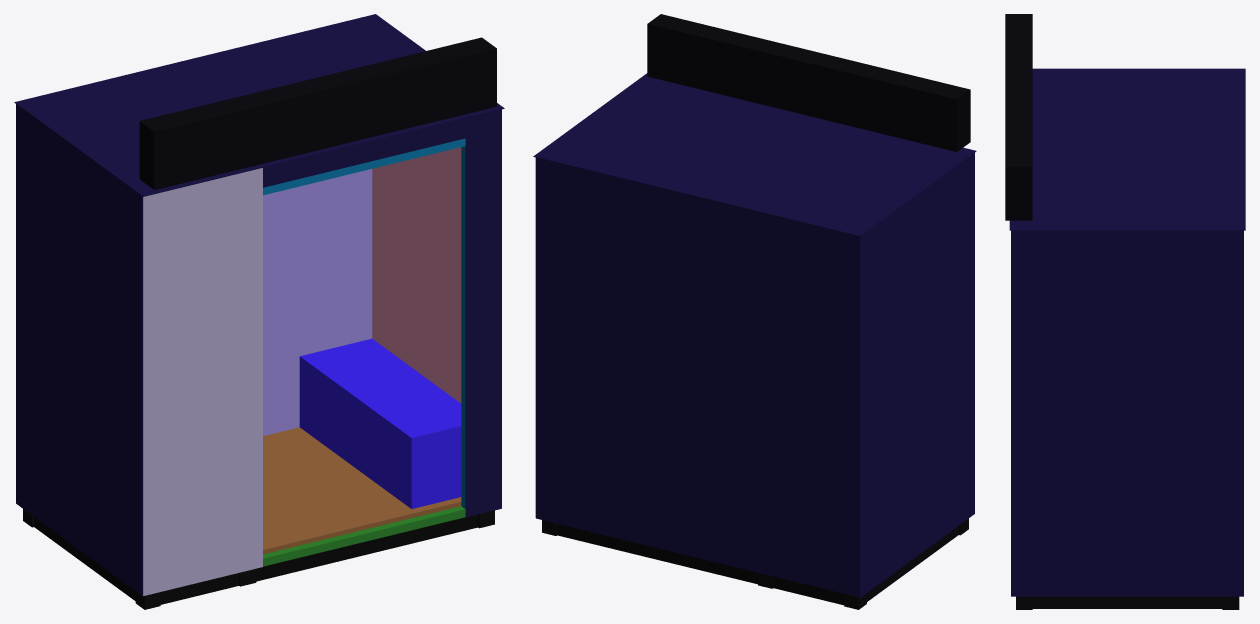
The model's file is mesticker_booth_fab.obj.
3 views of the same model, side by side, from view 1: azimuth 30°, elevation 25°; view 2: azimuth 150°, elevation 25°; view 3: azimuth 270°, elevation 25° (orthographic). The views are drawn at different scales.
Parts seen in each view (by area): view 1: M2_Machine_end_wall, M1_Machine_front_(aisle_face), S1_Sign_face, B7_Back_wall_liner_(inside), Bench, B6_Backdrop_liner_(end_wall,_inside), B3_Front_pillar, B5_Bay_roof, B8_Bay_floor_deck, M5_Machine_roof, B4_Front_header, P1_Plinth_skirt_long_0 (+4 smaller); view 2: B1_Bay_back_wall_(outside), M2_Machine_end_wall, M3_Machine_back, B5_Bay_roof, S1_Sign_face, M5_Machine_roof, P1_Plinth_skirt_long_1, P2_Plinth_skirt_short_0; view 3: B2_Bay_end_wall_(outside), B5_Bay_roof, M5_Machine_roof, S1_Sign_face, P2_Plinth_skirt_short_1, B1_Bay_back_wall_(outside), B3_Front_pillar.
Part boxes in pixels (<box>): M2_Machine_end_wall: <box>16,104,142,595</box>; M1_Machine_front_(aisle_face): <box>143,168,262,595</box>; S1_Sign_face: <box>139,37,496,190</box>; B7_Back_wall_liner_(inside): <box>263,169,372,435</box>; Bench: <box>299,338,461,508</box>; B6_Backdrop_liner_(end_wall,_inside): <box>372,147,461,403</box>; B3_Front_pillar: <box>465,109,501,517</box>; B5_Bay_roof: <box>135,14,504,167</box>; B8_Bay_floor_deck: <box>263,427,461,554</box>; M5_Machine_roof: <box>14,73,264,196</box>; B4_Front_header: <box>263,118,465,187</box>; P1_Plinth_skirt_long_0: <box>160,514,477,604</box>; B1_Bay_back_wall_(outside): <box>536,157,751,570</box>; M2_Machine_end_wall: <box>860,153,974,597</box>; M3_Machine_back: <box>752,210,860,597</box>; B5_Bay_roof: <box>533,73,859,209</box>; S1_Sign_face: <box>647,14,970,151</box>; M5_Machine_roof: <box>750,128,976,236</box>; P1_Plinth_skirt_long_1: <box>557,524,844,605</box>; P2_Plinth_skirt_short_0: <box>867,526,958,601</box>; B2_Bay_end_wall_(outside): <box>1011,230,1243,596</box>; B5_Bay_roof: <box>1009,122,1245,230</box>; M5_Machine_roof: <box>1032,68,1245,122</box>; S1_Sign_face: <box>1005,14,1032,220</box>; P2_Plinth_skirt_short_1: <box>1032,596,1222,608</box>; B1_Bay_back_wall_(outside): <box>1243,230,1243,596</box>; B3_Front_pillar: <box>1011,230,1011,596</box>.
Bounding box in the file's own units: 1.81 × 2.31 × 1.14.
